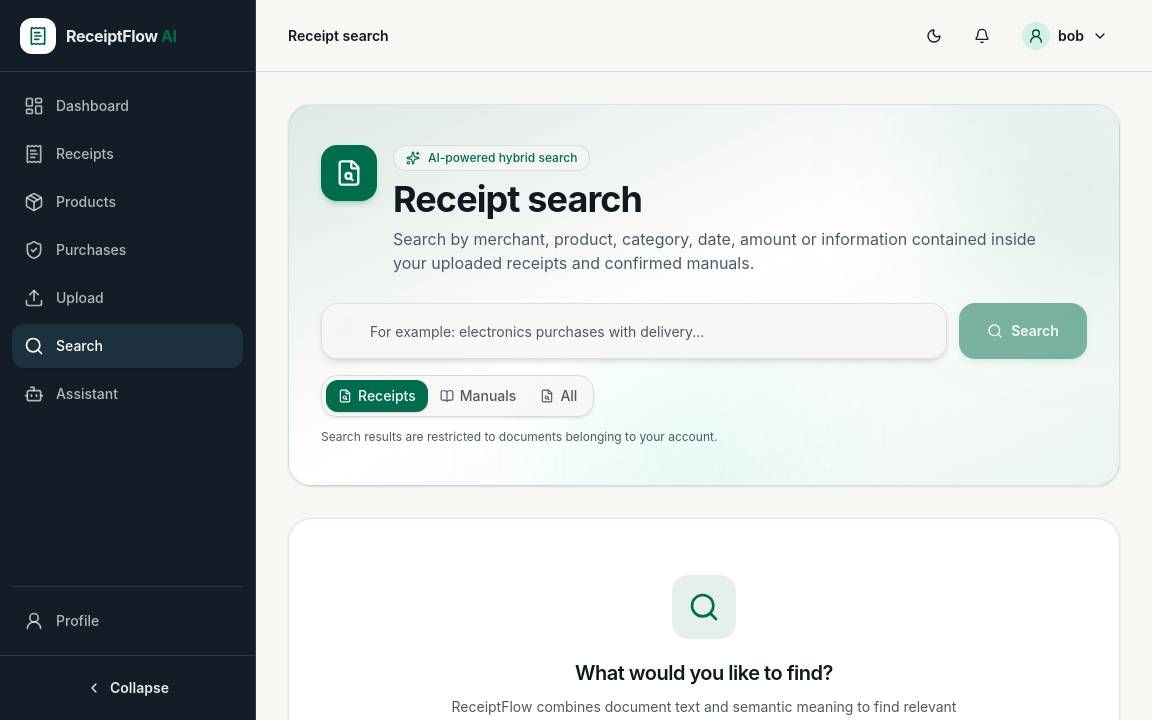
Scenario: Receipt search page › renders a loading state
Expected: the heading "Receipt search" is shown, [393, 177, 642, 221]
Step 1. Type "USB cables" into the search field named "Search receipts" → x=634, y=331, box [321, 303, 947, 359]
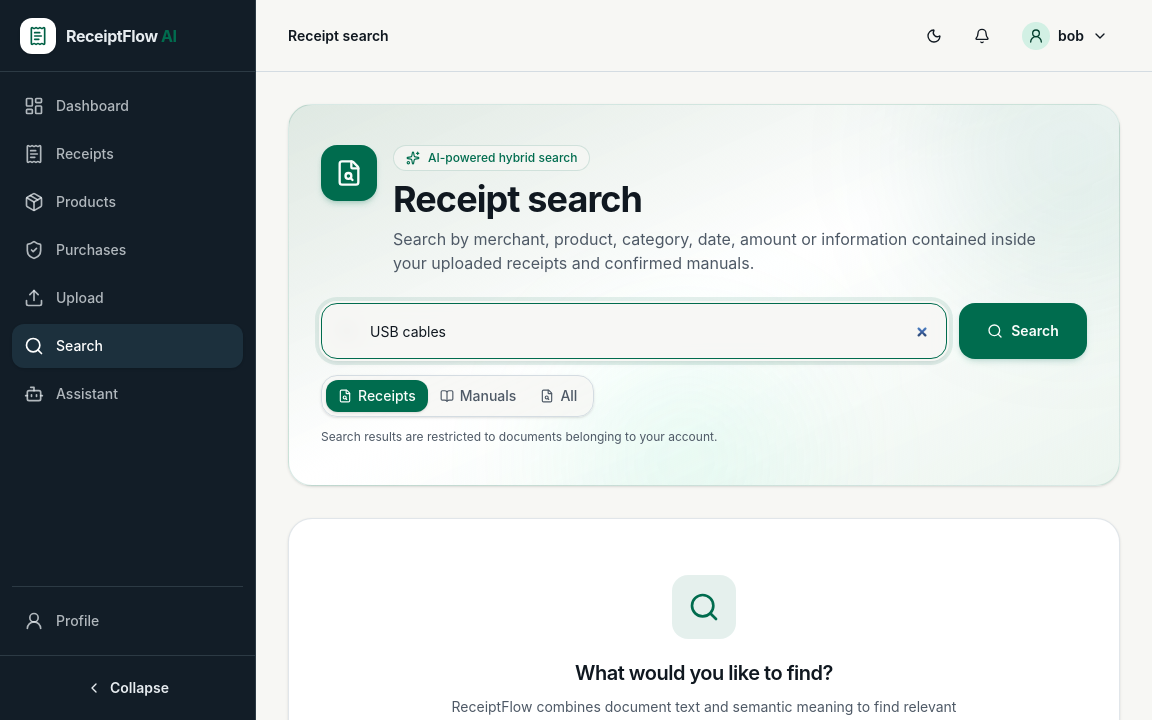
Step 2. Click the button "Search" → x=1023, y=331, box [959, 303, 1087, 359]
(page scrolled)
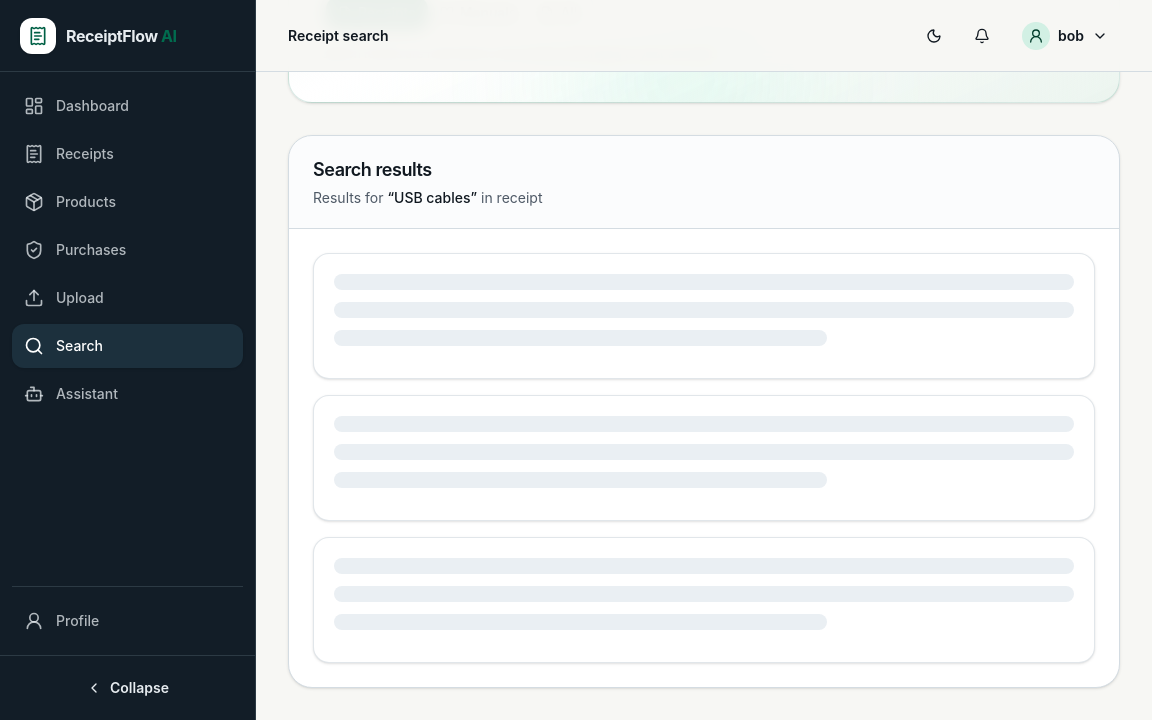
Expected: the message named "Searching receipts" is shown, [313, 253, 1095, 663]
